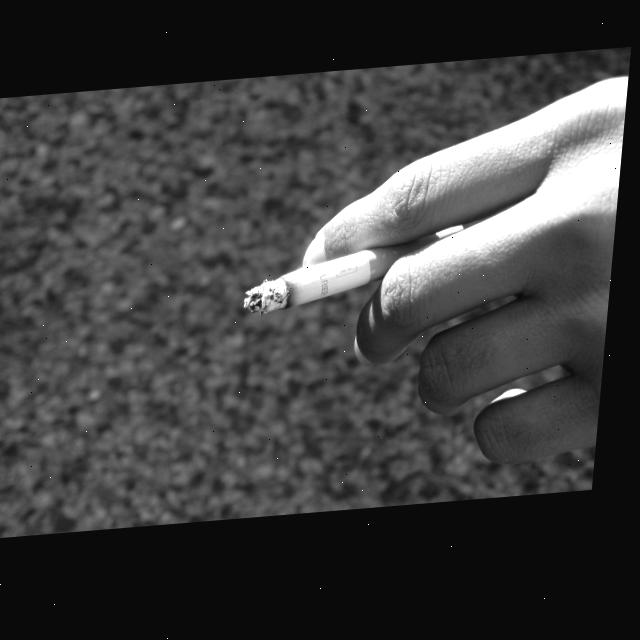cigarette: (249, 252, 388, 322)
